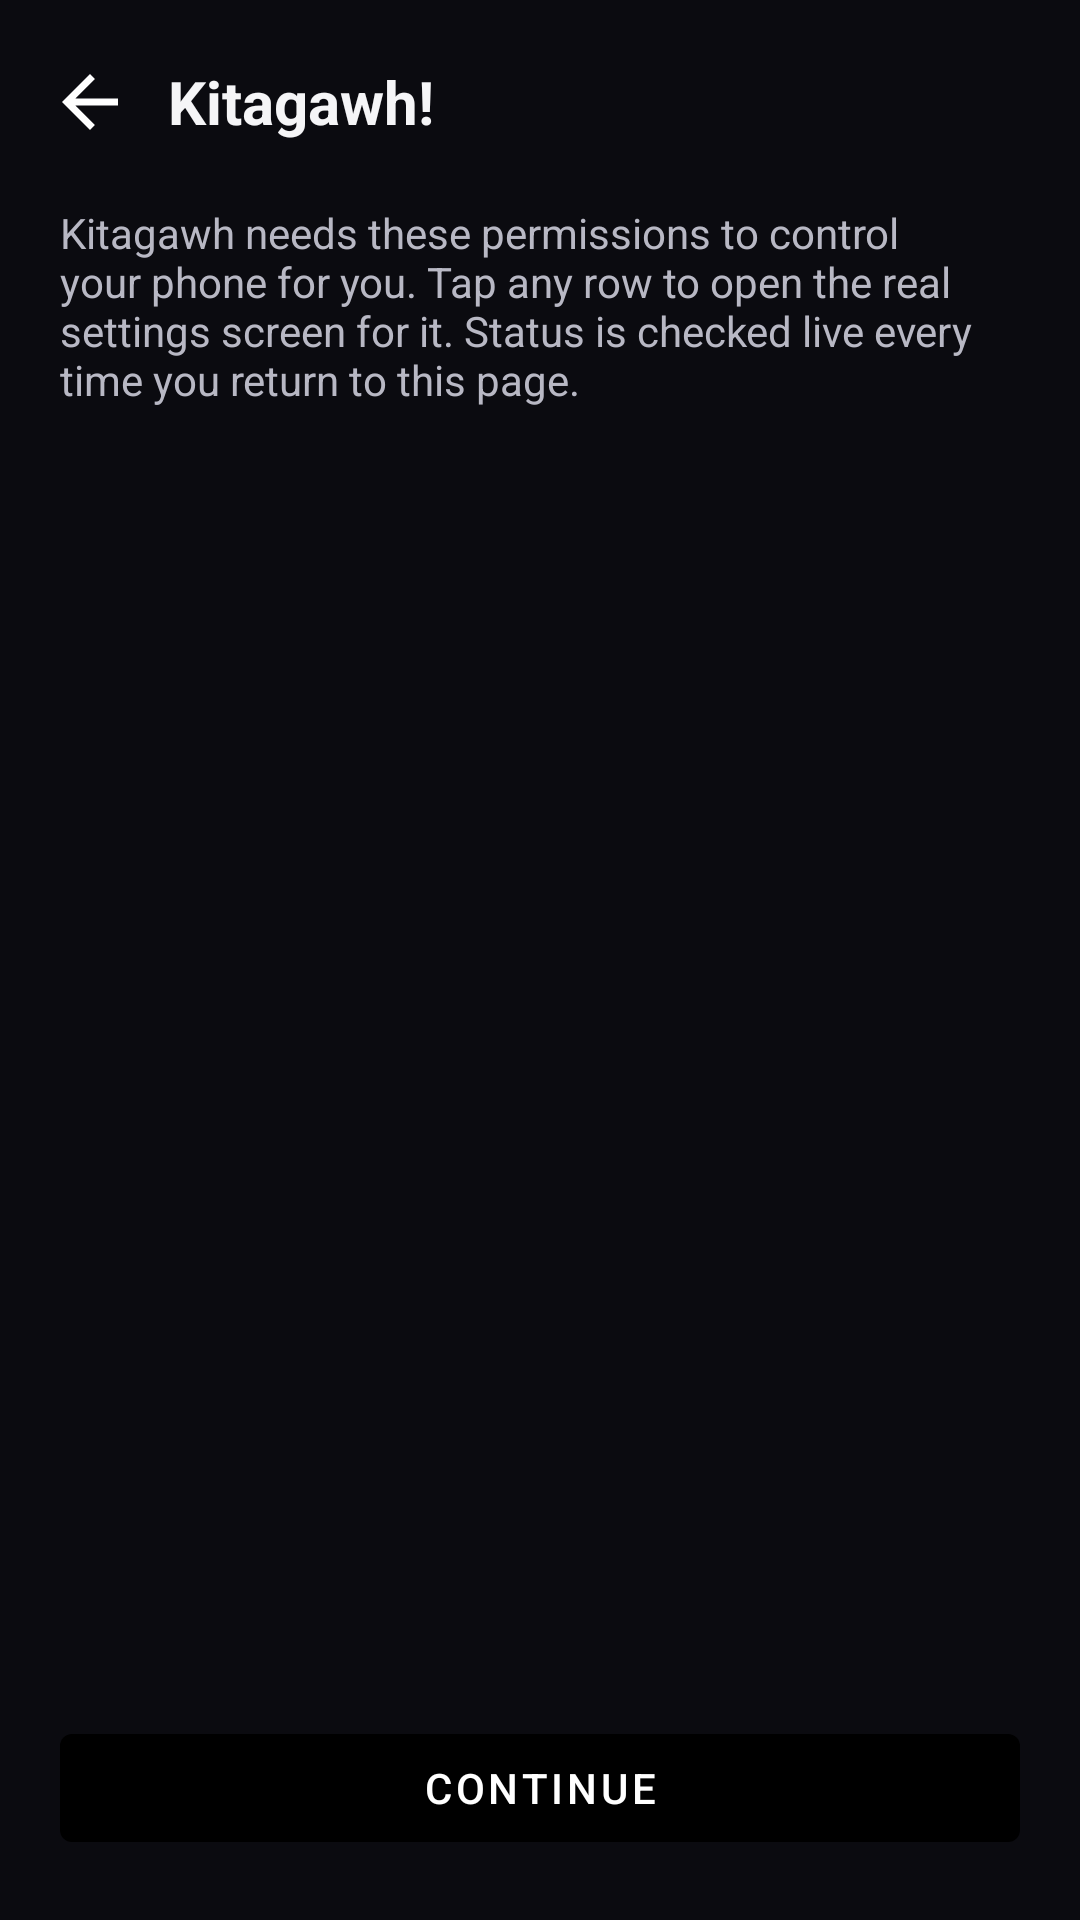

Icons on this 1080x1920 Android screen, each with its box as bbox=[x1, y1, x2, y2]:
Back: bbox=[62, 74, 118, 130]
